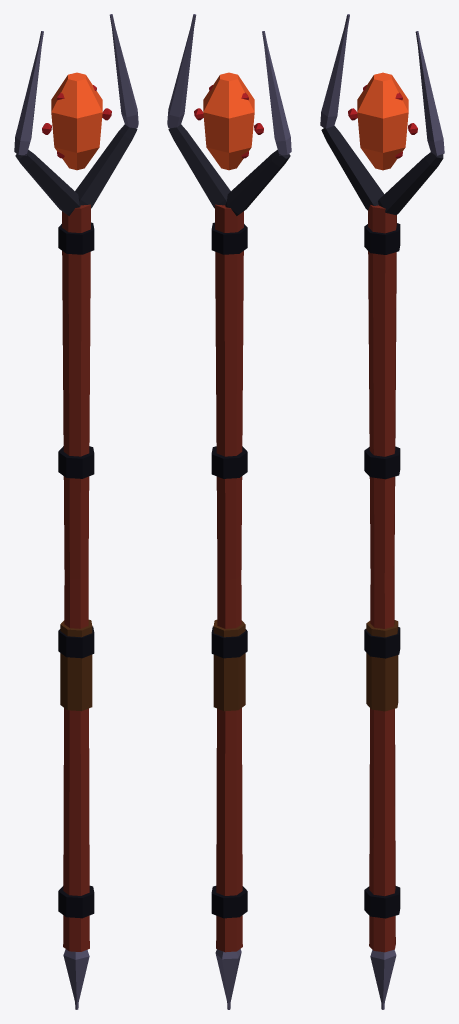
The model's file is wpn_staff_9.glb.
The picture shows the model from 3 angles, left to right: view 1: azimuth 30°, elevation 25°; view 2: azimuth 150°, elevation 25°; view 3: azimuth 330°, elevation 25°; orthographic projection.
Visible parts, largest first — view 1: wpn_staff_9; view 2: wpn_staff_9; view 3: wpn_staff_9.
Part boxes in pixels (bbox=[...]): wpn_staff_9: bbox=[14, 14, 138, 1009]; wpn_staff_9: bbox=[167, 14, 291, 1009]; wpn_staff_9: bbox=[320, 14, 444, 1009].
Size of the model in its own units: 0.2856 by 2.2 by 0.1039.
